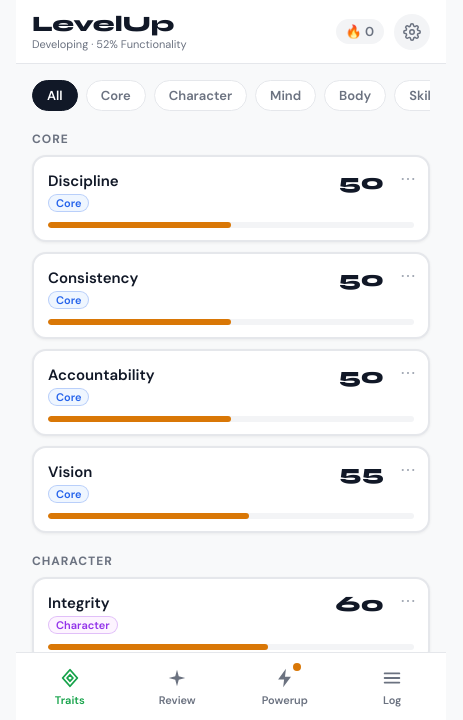
Test: app › Powerup tab shows a lesson for the lowest trait and can be marked done
Later steps or results of the test are not shown.
Click the button "Powerup": (285,686) [231, 653, 338, 719]
(page scrolled)
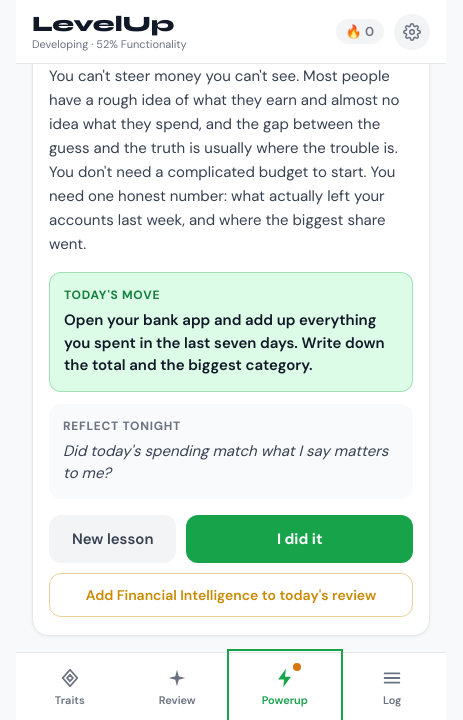
Click the button "New lesson": (113,539) [49, 515, 176, 563]
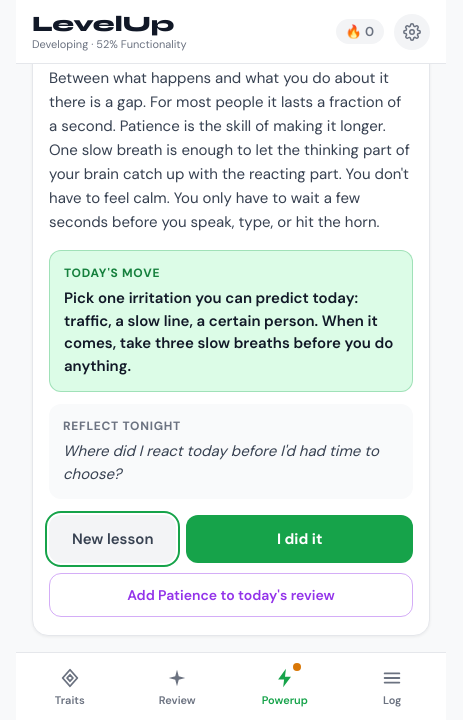
Click the button "I did it": (300,539) [186, 515, 413, 563]
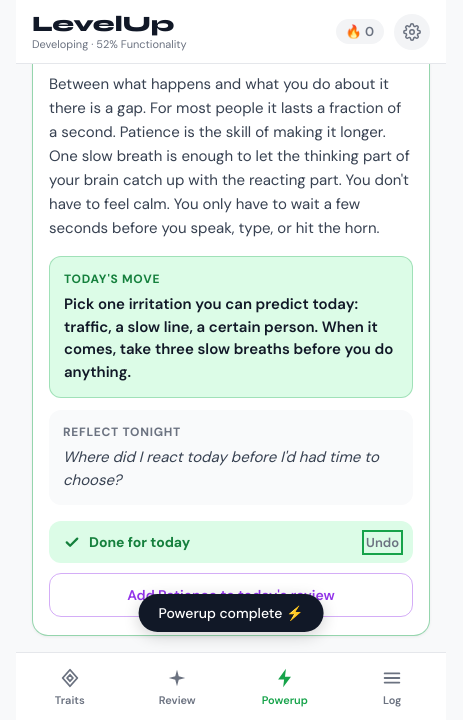
Now the text "Done for today" is shown, box [63, 533, 190, 551]
